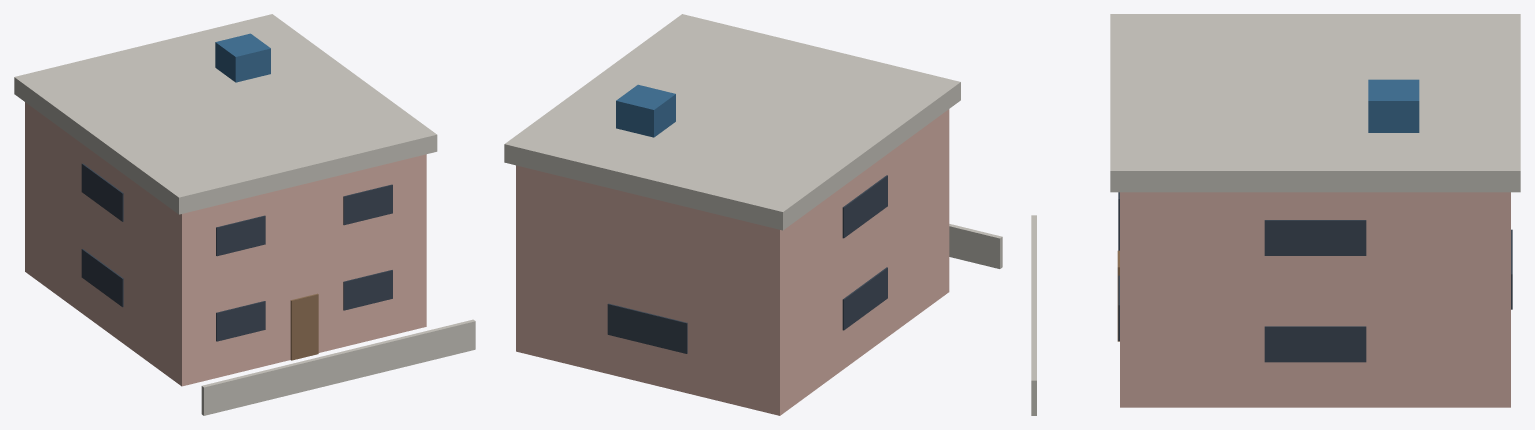
Rendered from casa_5.glb.
3 renders of one model, left to right at view 1: azimuth 30°, elevation 25°; view 2: azimuth 150°, elevation 25°; view 3: azimuth 270°, elevation 25°, orthographic. The views are drawn at different scales.
Visible parts, largest first — view 1: w, mu, j, cx, por; view 2: w, mu, j, cx; view 3: w, mu, j, cx.
Boxes of the visible parts, x1,y1,x2,y2 form: w: (25, 102, 426, 386); mu: (14, 14, 475, 415); j: (81, 163, 392, 341); cx: (215, 33, 270, 82); por: (290, 293, 318, 360); w: (516, 109, 949, 415); mu: (504, 14, 1002, 268); j: (607, 175, 887, 353); cx: (616, 84, 675, 137); w: (1120, 192, 1510, 407); mu: (1031, 14, 1520, 415); j: (1118, 192, 1512, 362); cx: (1368, 79, 1419, 132).
Bounding box in the file's own units: 10 × 7.7 × 12.52.
